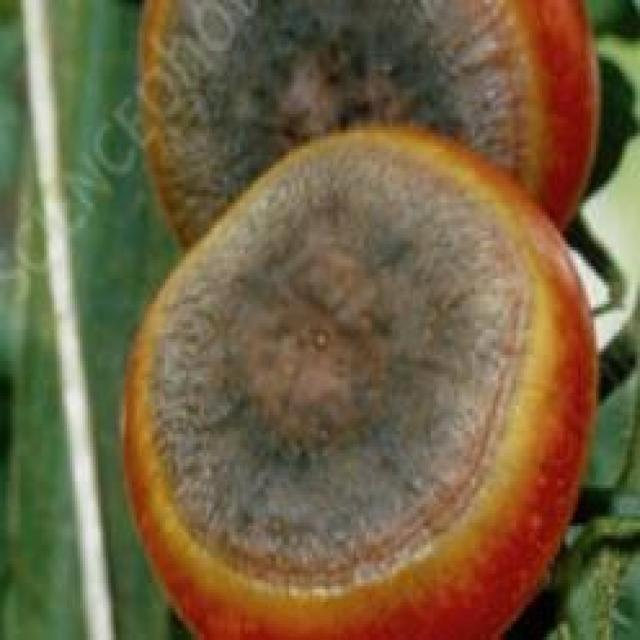Blossom End Rot Fruit: (227, 78, 260, 309)
